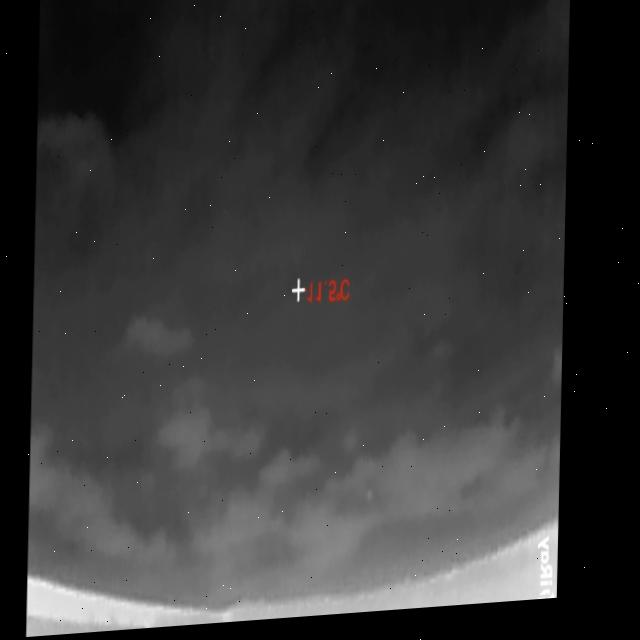drone: (367, 494, 375, 508)
